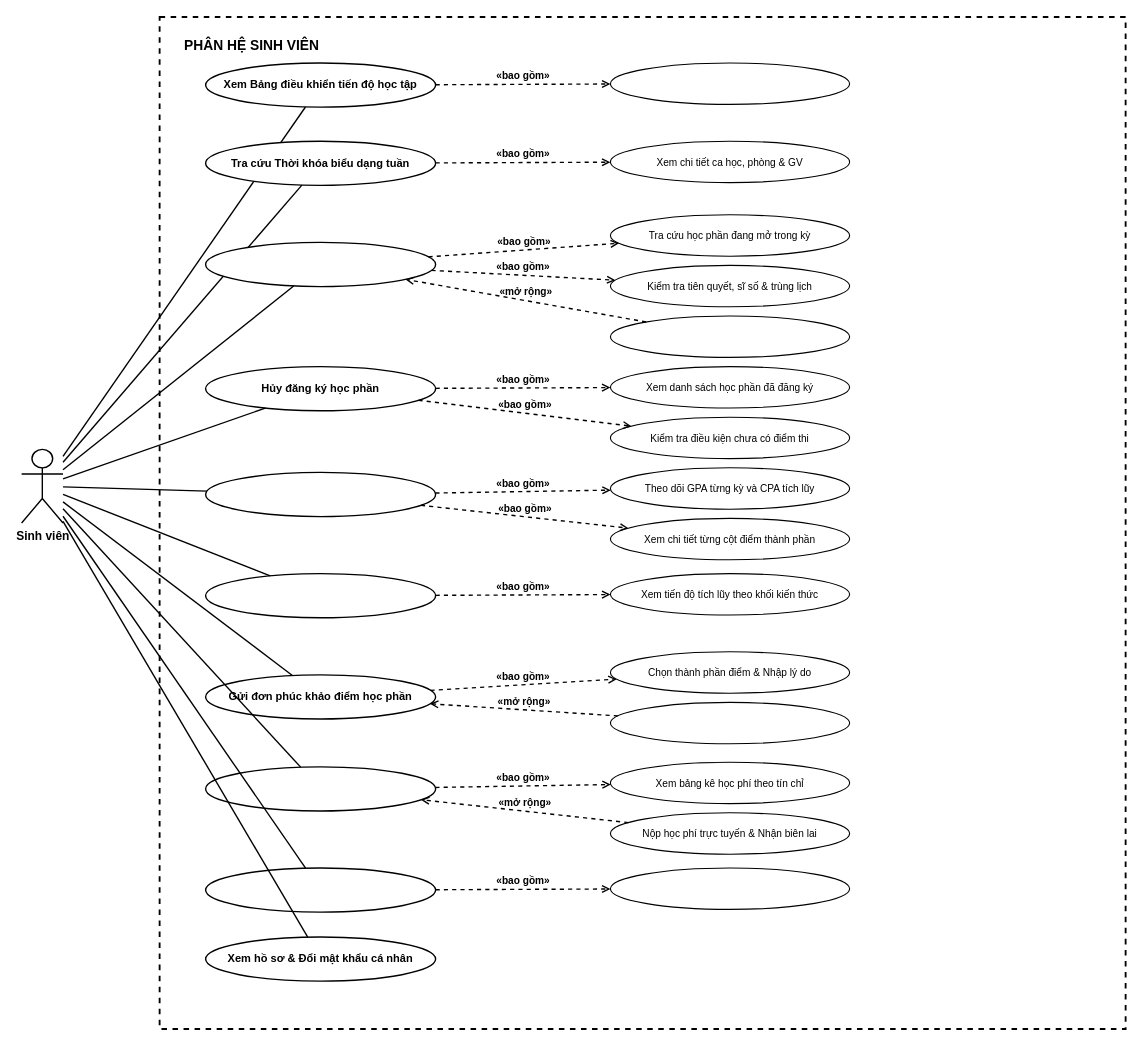
Some shapes in this 1143 by 1045 pixel diagram are drawn without their labels. Here are the shapes that lost their labels. From the top down, the centre of each, then its label:
point (729, 83): Theo dõi GPA/CPA và tín chỉ tích lũy
point (320, 264): Đăng ký lớp học phần trong kỳ
point (729, 336): Trợ lý xếp TKB thông minh (Backtracking)
point (320, 494): Tra cứu Bảng điểm học tập
point (320, 595): Xem Lộ trình khung chương trình đào tạo
point (729, 722): Theo dõi trạng thái xét duyệt phúc khảo
point (320, 788): Tra cứu & Thanh toán học phí
point (320, 889): Điểm danh trực tiếp (Check-in)
point (729, 888): Nhập mã PIN xác nhận có mặt
